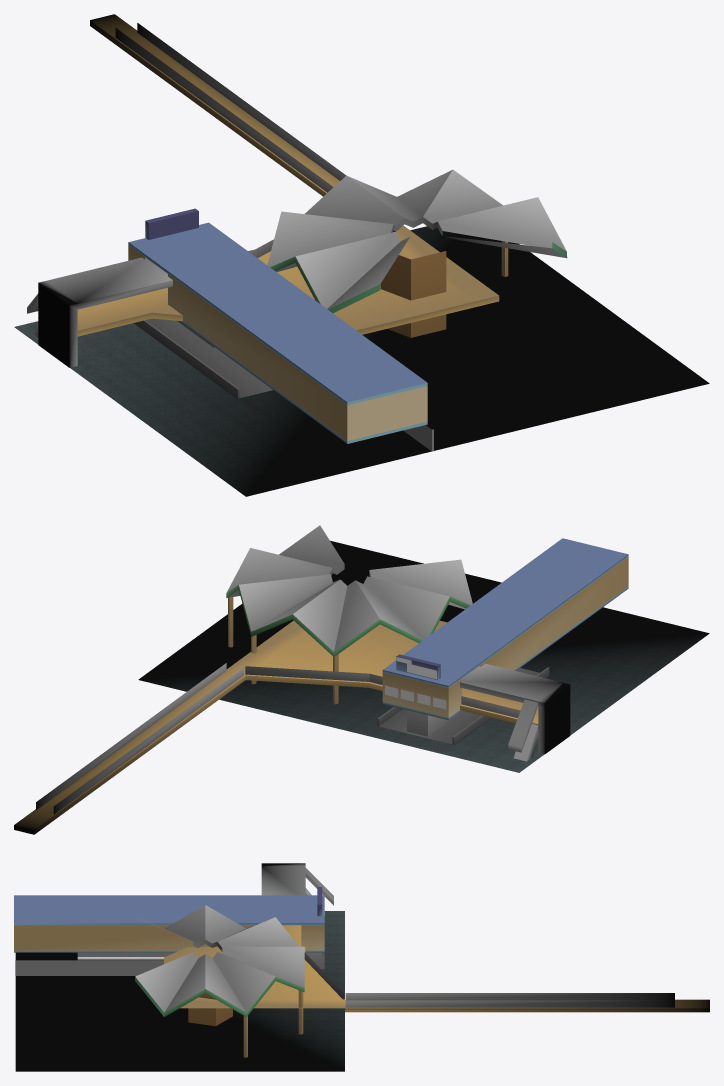
Rendered from HAMAOTU.glb.
3 views of the same model, one above another, from view 1: azimuth 30°, elevation 25°; view 2: azimuth 150°, elevation 25°; view 3: azimuth 270°, elevation 25° (orthographic). The views are drawn at different scales.
Visible parts, largest first — view 1: Model; view 2: Model; view 3: Model.
Boxes of the visible parts, left/top/right/bottom form: Model: left=14, top=14, right=709, bottom=496; Model: left=14, top=525, right=709, bottom=834; Model: left=14, top=863, right=709, bottom=1071.
Bounding box in the file's own units: 233 × 50.23 × 423.
8 materials, 6 textured.
